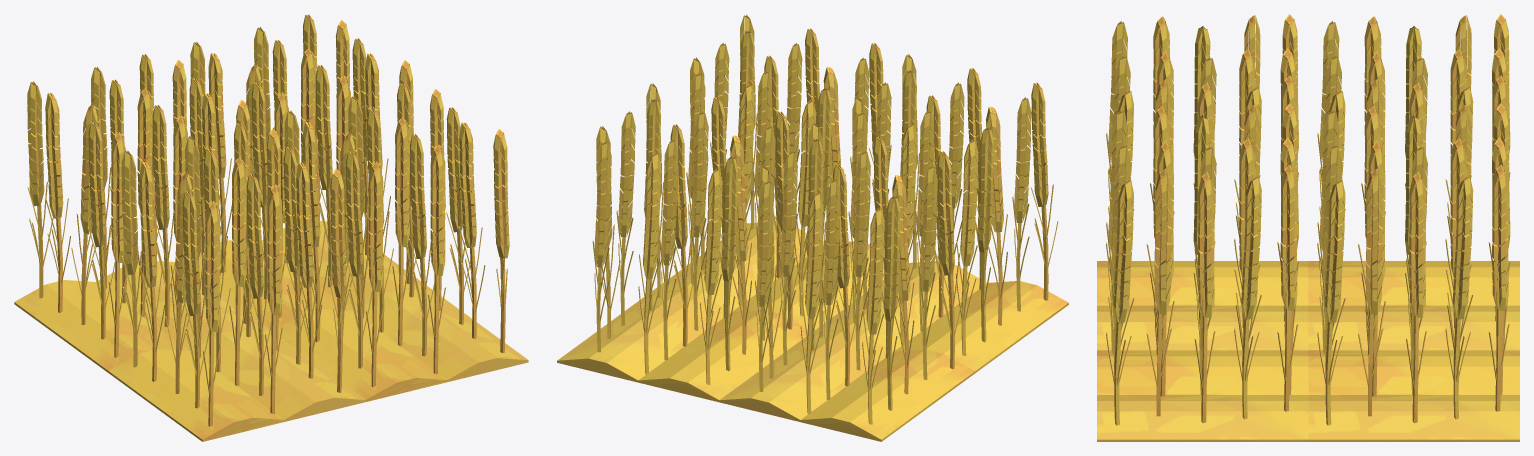
The model's file is wheat.fbx.
The picture shows the model from 3 angles, left to right: view 1: azimuth 30°, elevation 25°; view 2: azimuth 150°, elevation 25°; view 3: azimuth 270°, elevation 25°; orthographic projection. The views are drawn at different scales.
Visible parts, largest first — view 1: Cube.007; view 2: Cube.007; view 3: Cube.007.
Boxes of the visible parts, x1=… form: Cube.007: x1=14, y1=14, x2=528, y2=441; Cube.007: x1=557, y1=14, x2=1068, y2=441; Cube.007: x1=1097, y1=14, x2=1519, y2=441.
Size of the model in its own units: 4 by 4 by 2.66.
Materials: 1 (1 with a texture image).
